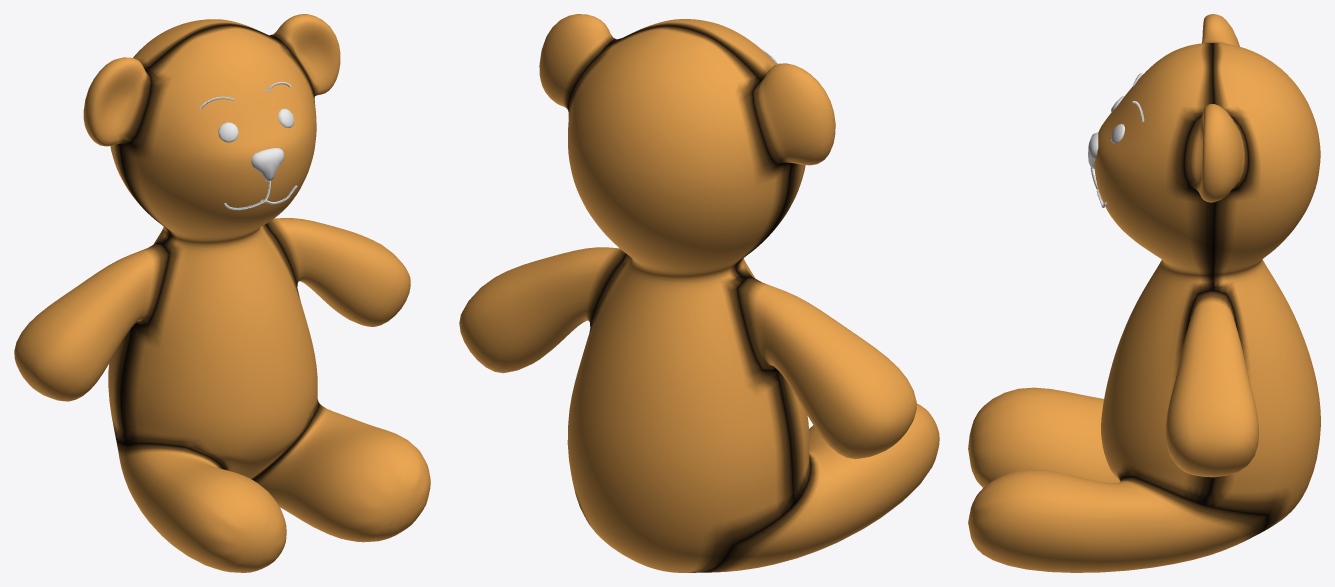
Rendered from Teddy.fbx.
The picture shows the model from 3 angles, left to right: view 1: azimuth 30°, elevation 25°; view 2: azimuth 150°, elevation 25°; view 3: azimuth 270°, elevation 25°; orthographic projection. The views are drawn at different scales.
Visible parts, largest first — view 1: Teddy_bear, nose, Eyes; view 2: Teddy_bear; view 3: Teddy_bear.
Part boxes in pixels (x1,y1,x2,y2): Teddy_bear: (14,14,430,572); nose: (251,148,284,181); Eyes: (218,108,294,142); Teddy_bear: (459,14,939,572); Teddy_bear: (968,14,1320,572).
Bounding box in the file's own units: 16.1 × 18.89 × 12.48.
